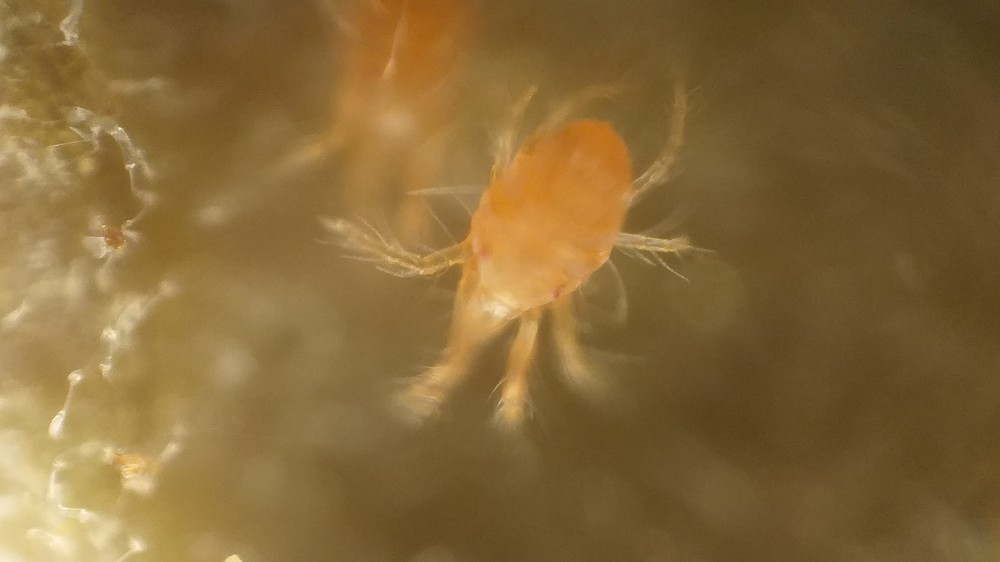Aracnido Rojo: (355, 78, 729, 456)
